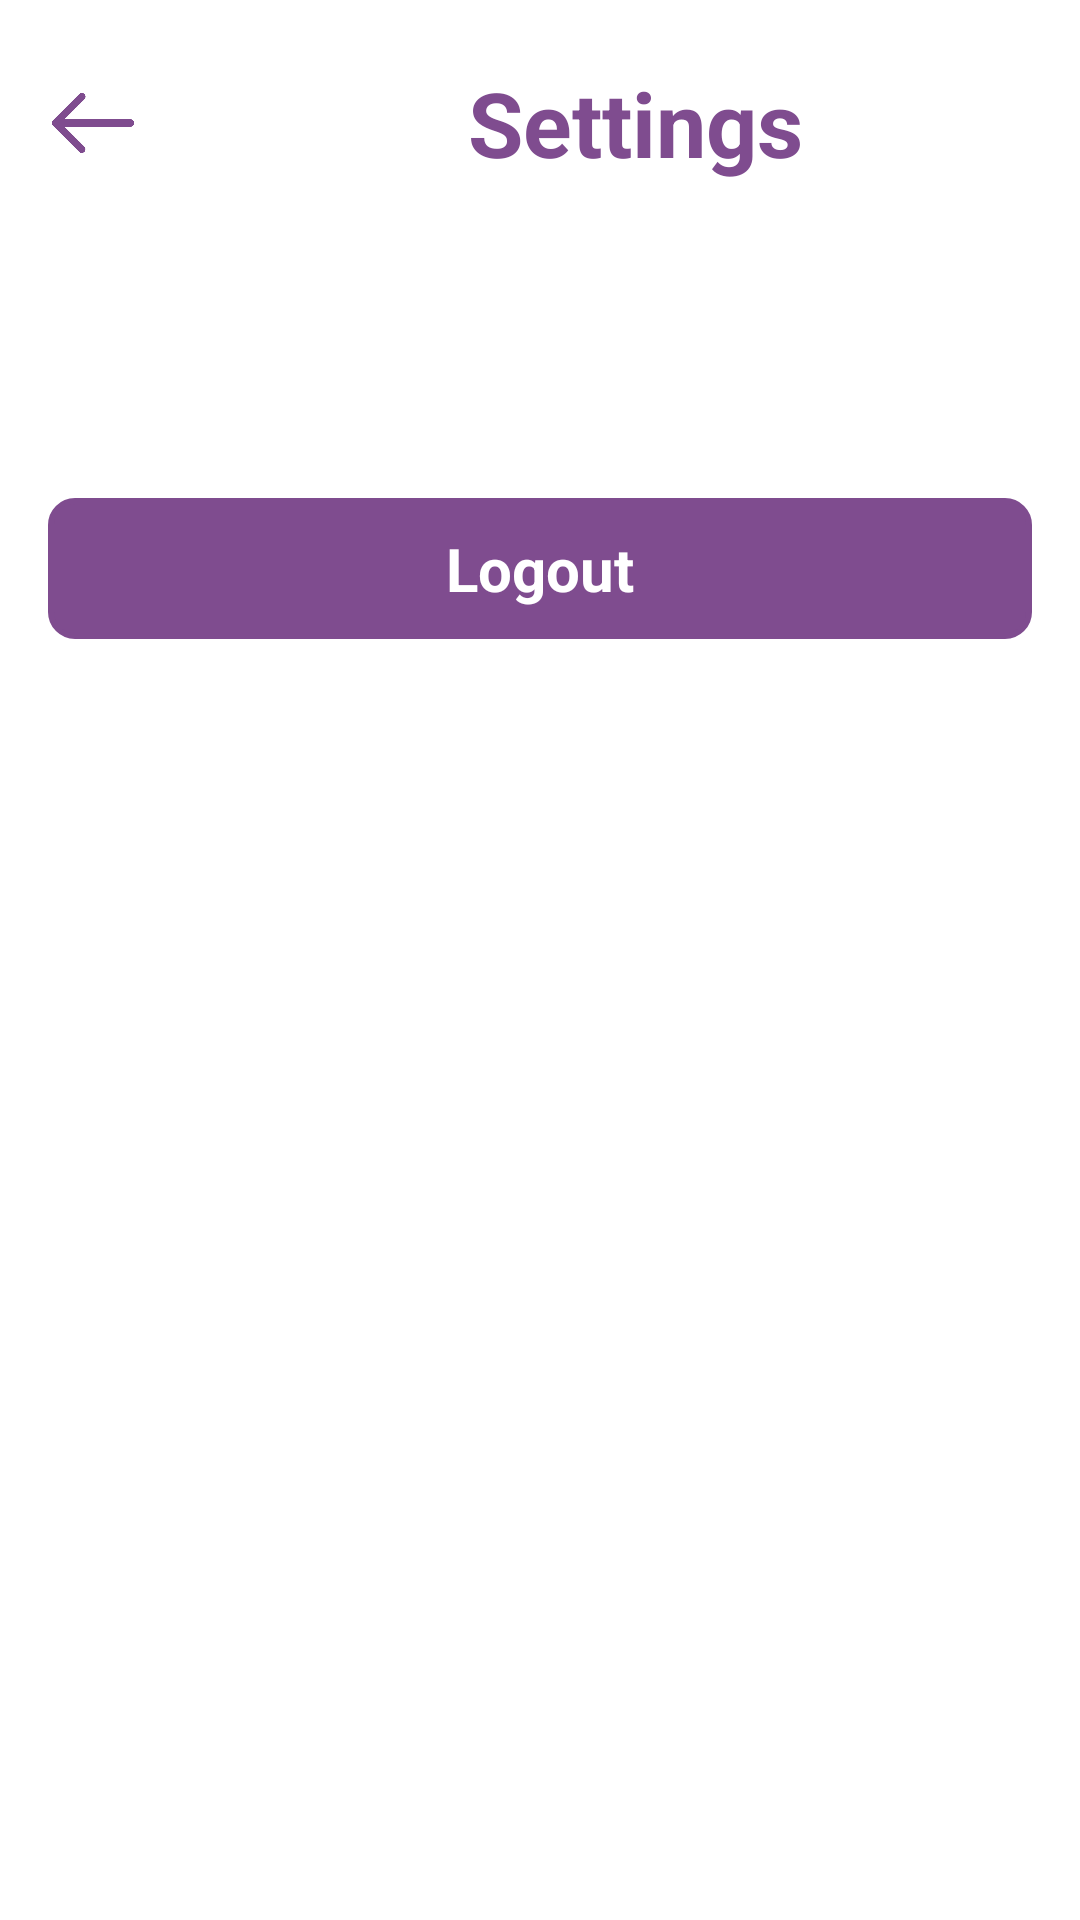

Icon click points for this 1080 x 1920 phone screenshot, format (x,y):
back wp: (93,123)
